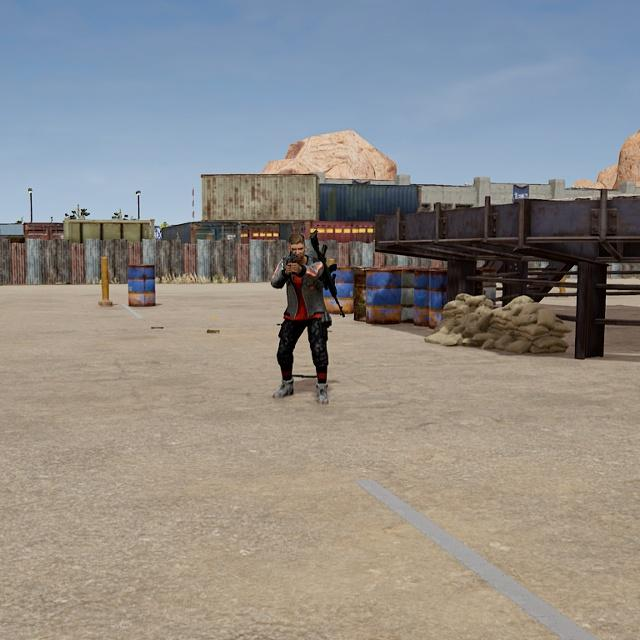head: (288, 233, 308, 258)
people: (269, 232, 333, 406)
